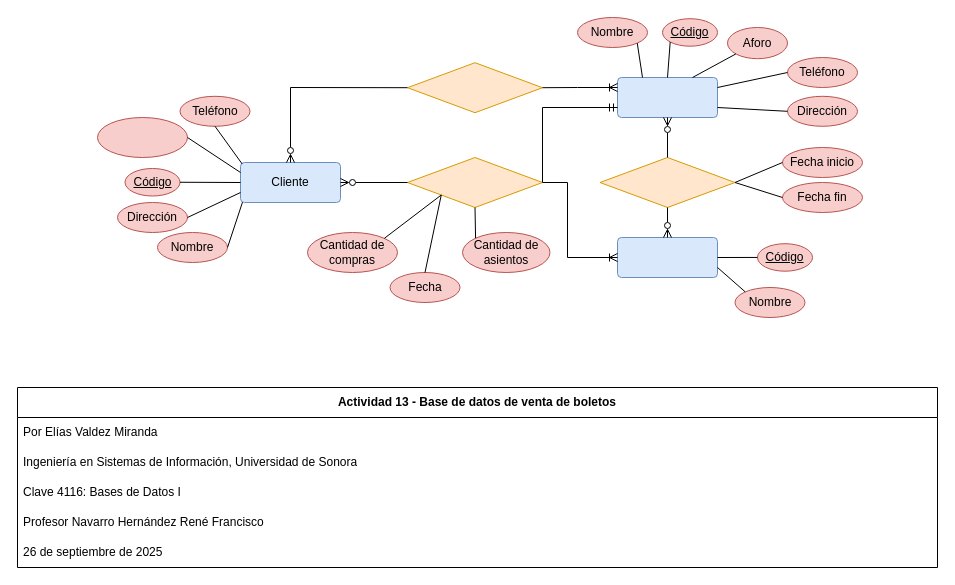
The diagram is 955 pixels wide and 585 high, and some of its shapes have lost their labels. Each missing label, with the centre of its shape:
Asiste a: (x=474, y=87)
Compra entrada a: (x=474, y=182)
Espectáculo: (x=667, y=257)
Fecha Nacimiento: (x=142, y=137)
Local: (x=667, y=97)
Presenta: (x=667, y=182)
